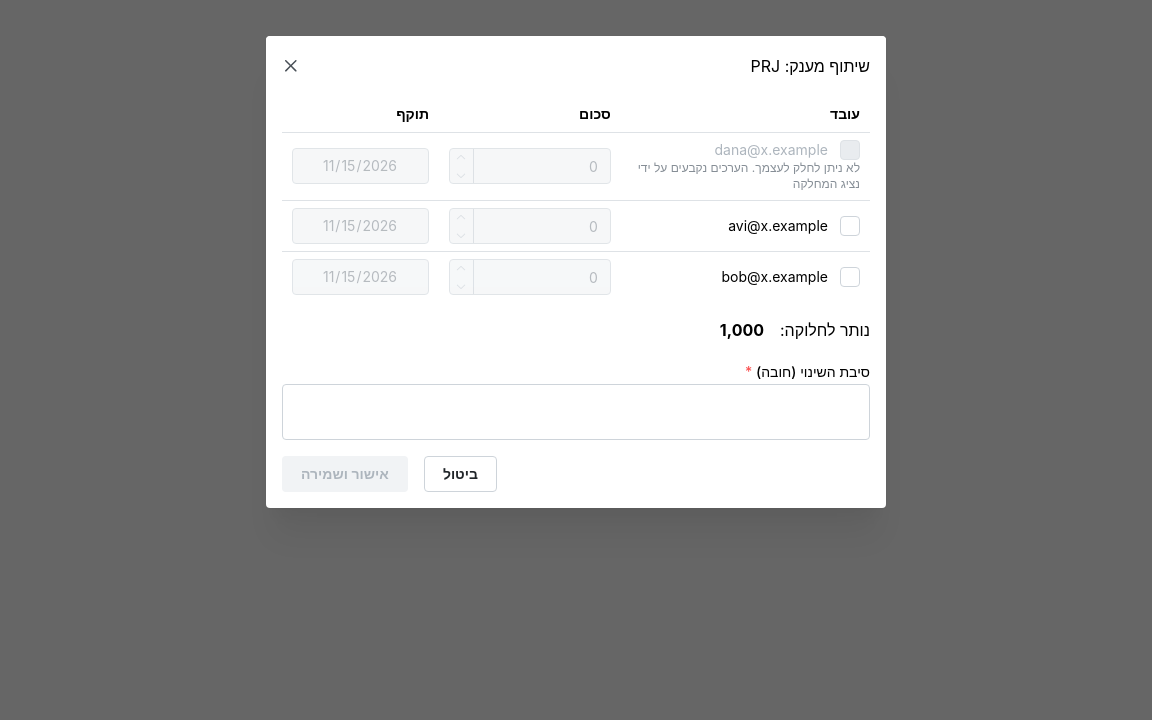
Test: ShareDialog › remainder updates and blocks above grant
Expected: the element with test id "share-remainder" reads "1,000", [720,320,764,340]
Click the checkbox labelled "avi@x.example". click: [850, 226]
box: [840,216,860,236]
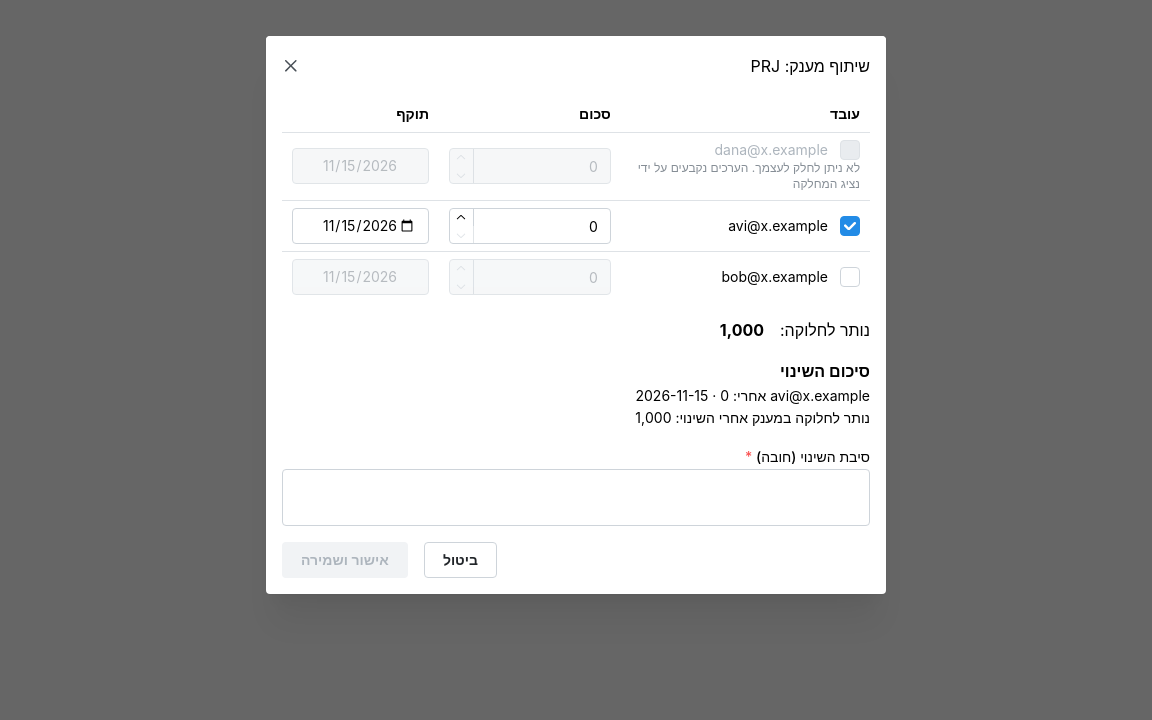
Replace the text in the field with test id "share-amount-avi@x.example" with "400". click: [530, 226]
box: [449,208,611,244]
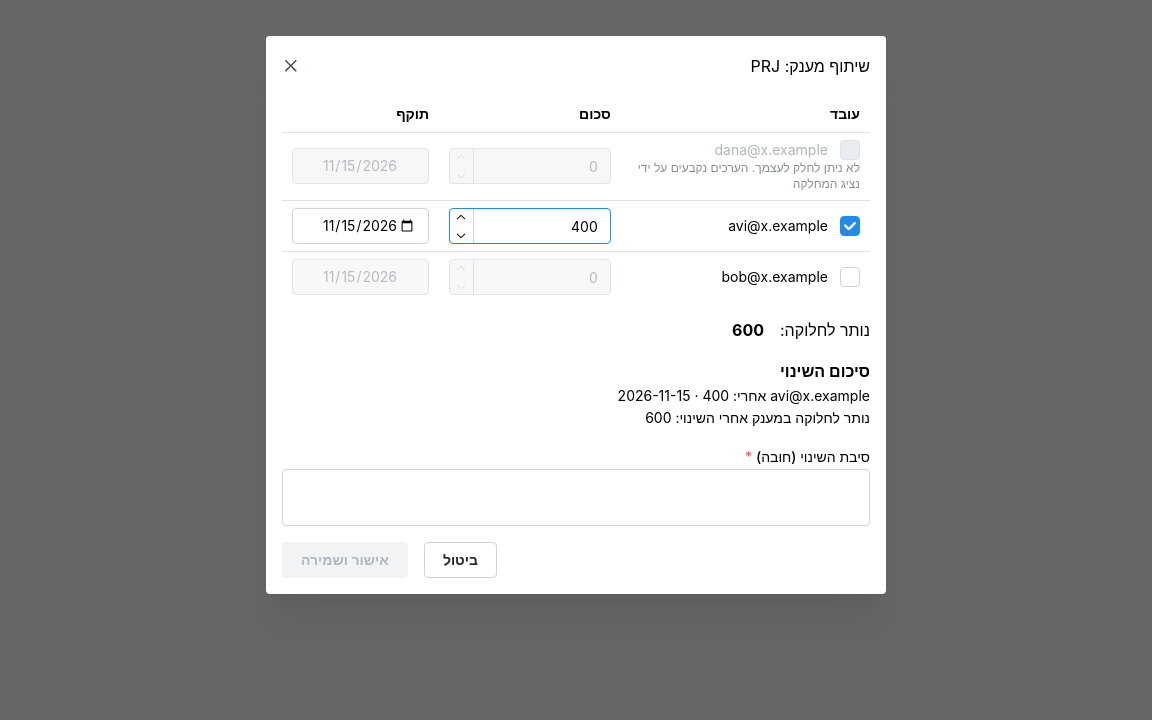
Expected: the button with test id "share-confirm" is disabled, [282,542,408,578]
Expected: the element with test id "share-remainder" reads "600", [732,320,764,340]
Type "why" into the text box with test id "share-reason". click: [576, 498]
box: [282,469,870,526]
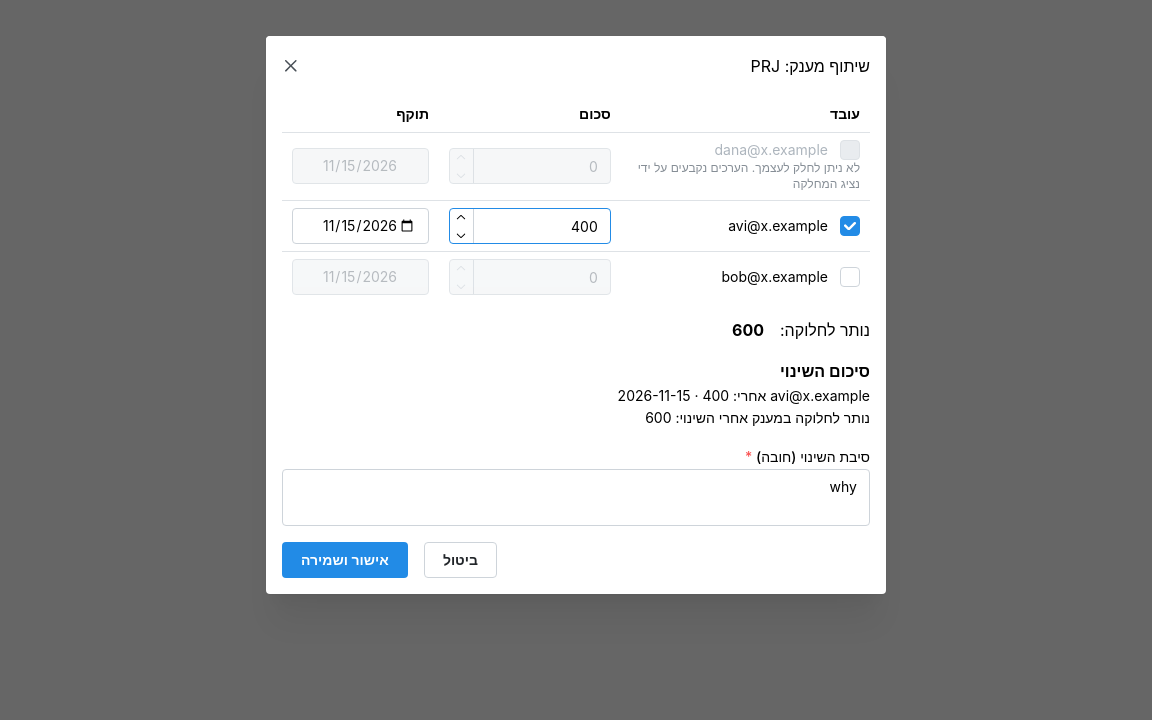
Expected: the button with test id "share-confirm" is enabled, [282,542,408,578]
Replace the text in the field with test id "share-amount-avi@x.example" with "1500". click: [530, 226]
box: [449,208,611,244]
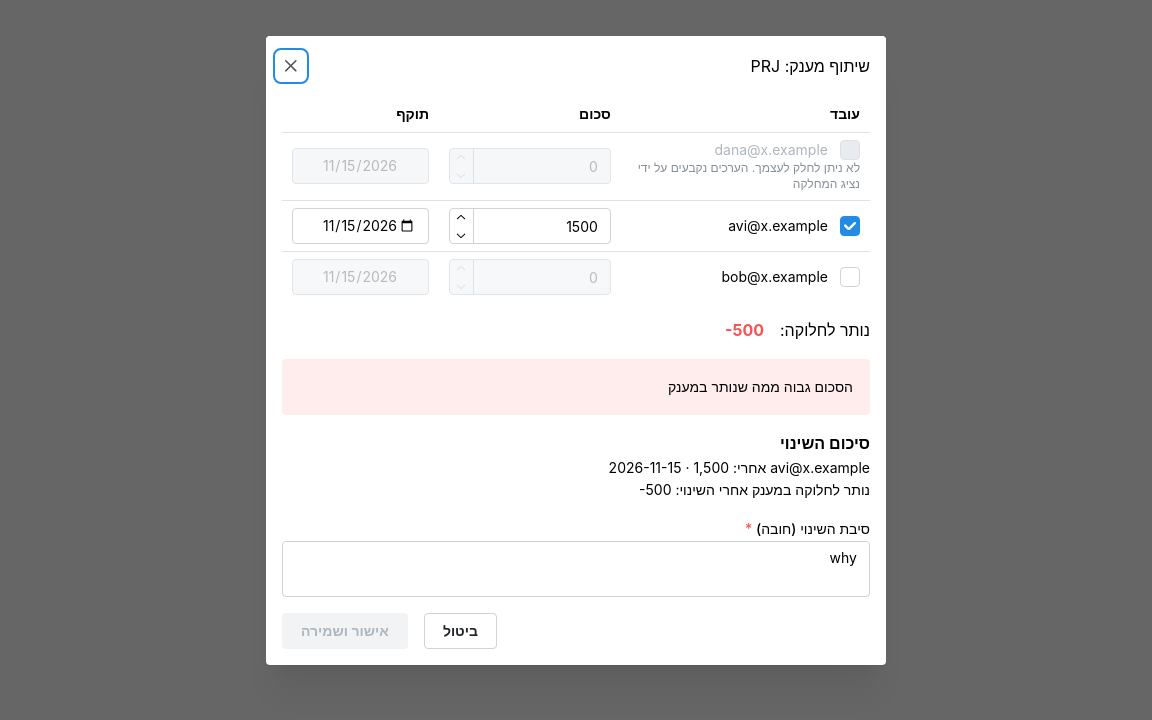
Expected: the element with test id "share-remainder" shows "-500", [725,320,764,340]
Expected: the message "הסכום גבוה ממה שנותר במענק" is shown, [282,359,870,415]
Expected: the button with test id "share-confirm" is disabled, [282,613,408,649]
